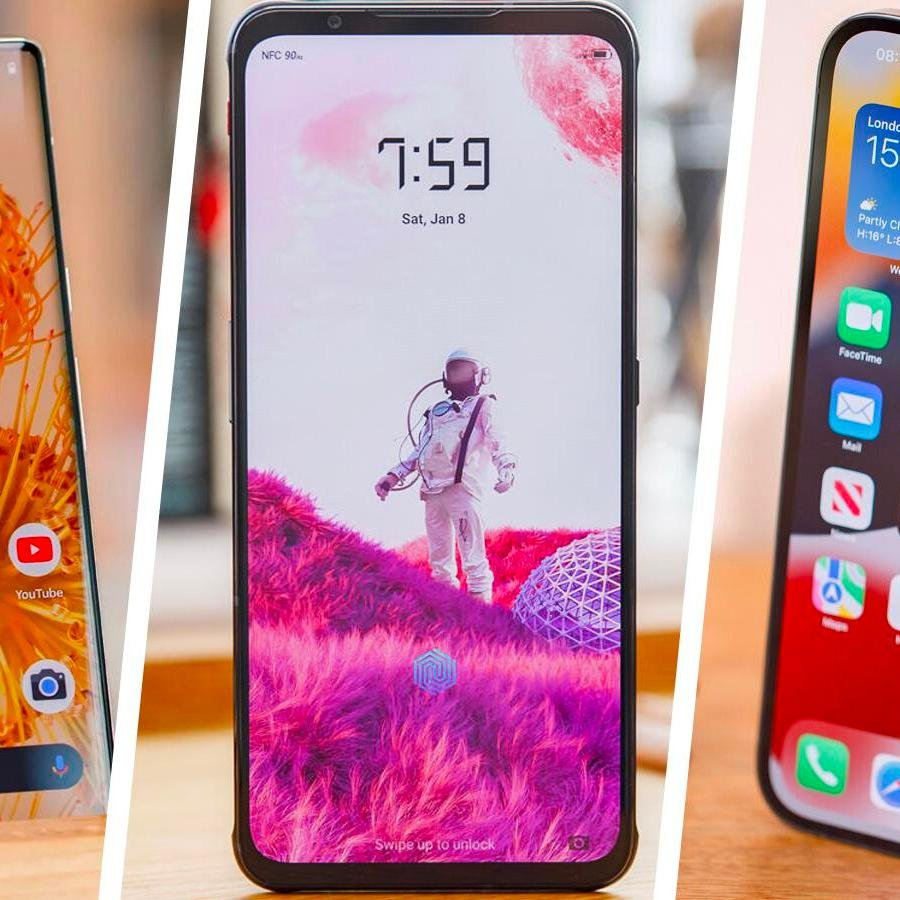phones: (215, 5, 628, 895)
